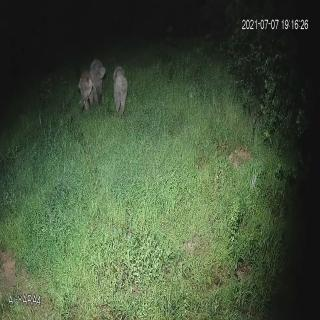Elephant: (111, 56, 129, 114), (76, 65, 94, 117), (88, 54, 105, 106)
